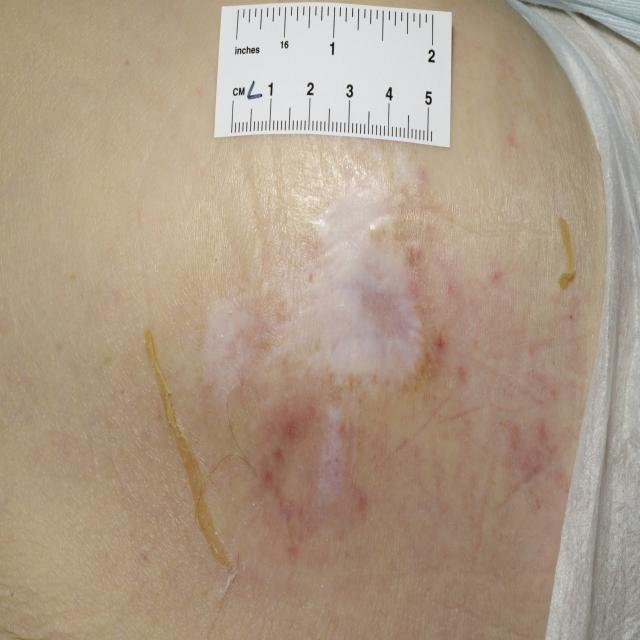wound: (182, 172, 483, 550)
